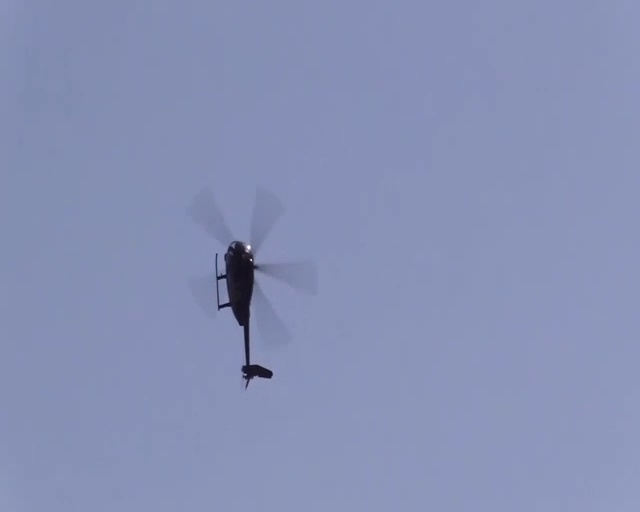HELICOPTER: (186, 184, 319, 391)
